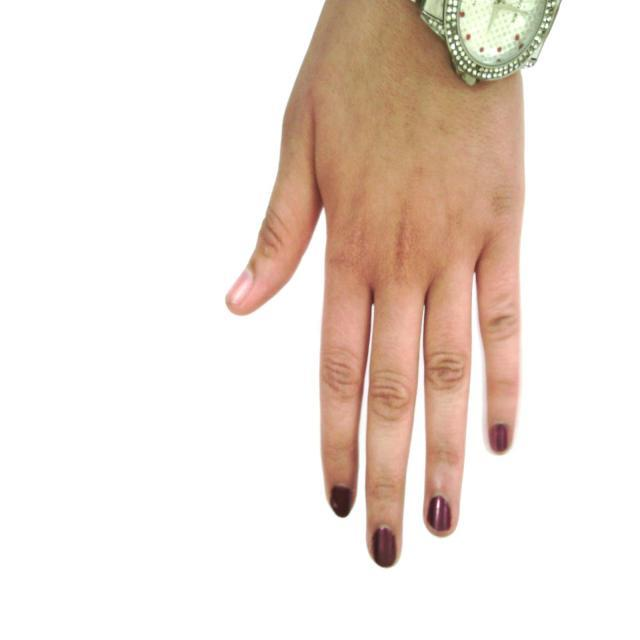Fingernail: (226, 268, 253, 305), (374, 527, 396, 567), (429, 497, 451, 532), (331, 487, 352, 518), (491, 424, 509, 452)
